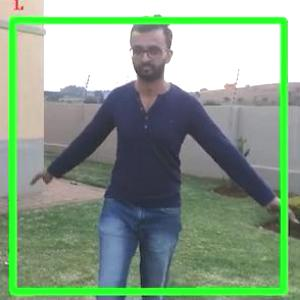land: (13, 25, 295, 299)
